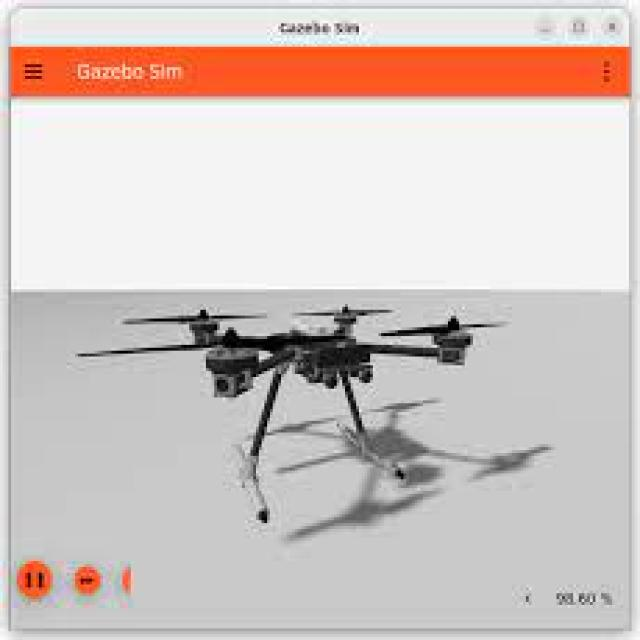drone: (81, 300, 503, 526)
